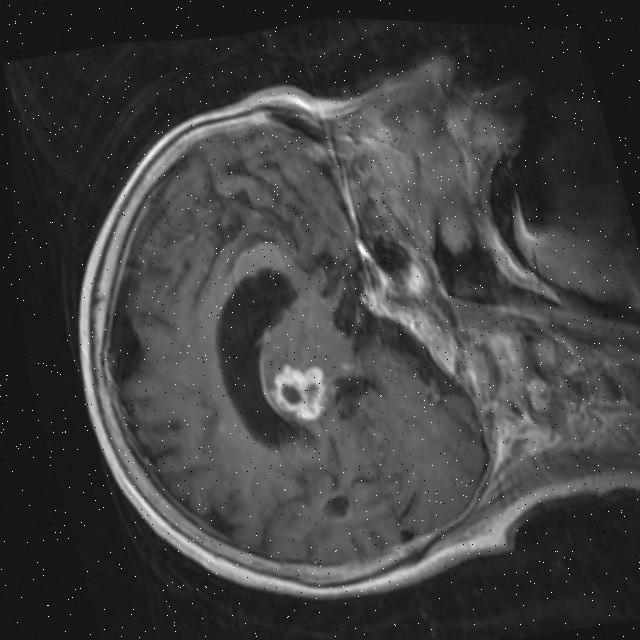Glioma: (261, 352, 334, 428)
